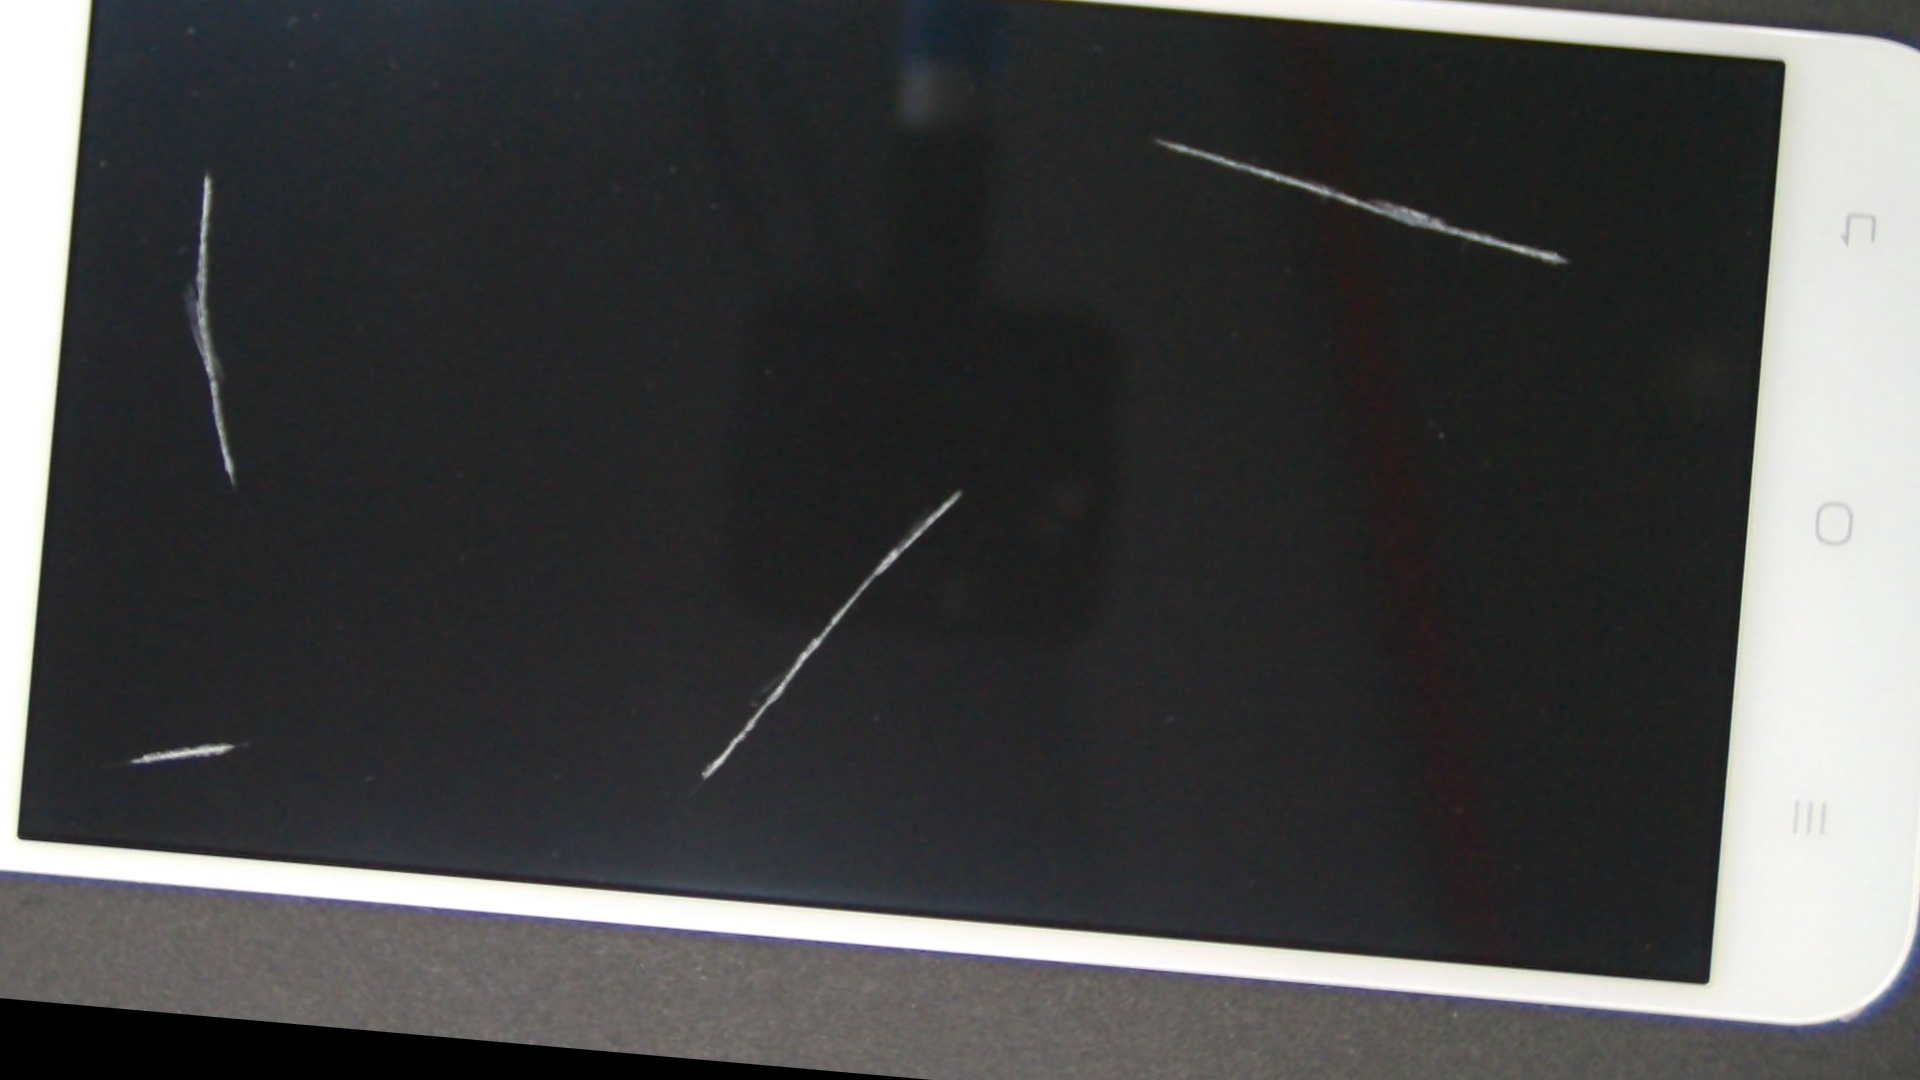oil: (373, 150, 1543, 828), (500, 0, 1803, 299), (5, 277, 509, 1038), (18, 0, 396, 352)
